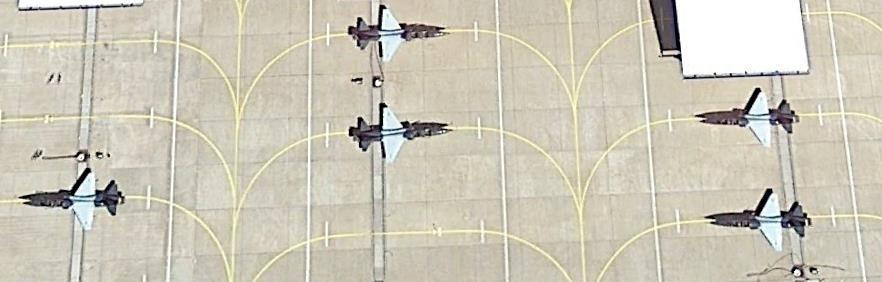plane: (351, 101, 459, 165), (19, 168, 125, 233), (707, 191, 812, 254), (346, 3, 455, 63), (697, 91, 800, 151)
